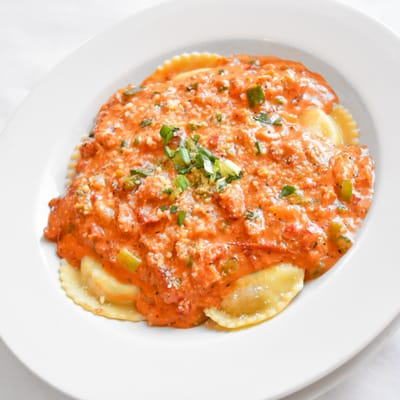curry: (15, 1, 400, 362)
sandwich: (45, 50, 377, 328)
